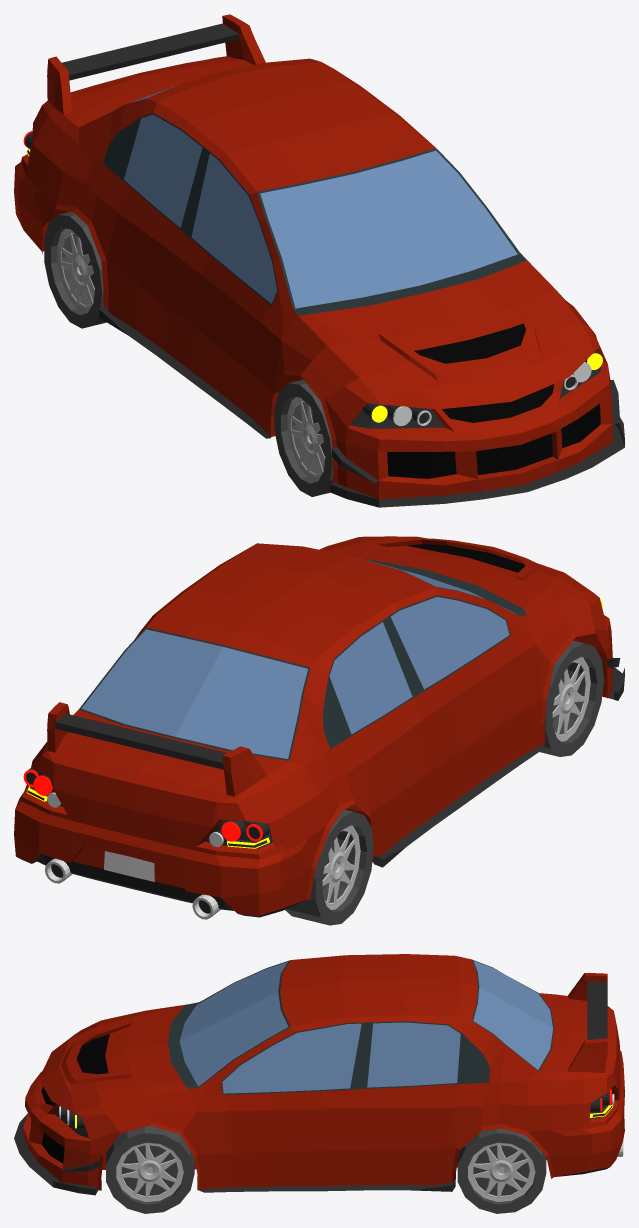
The model's file is mitsubishi.fbx.
3 renders of one model, top to bottom at view 1: azimuth 30°, elevation 25°; view 2: azimuth 150°, elevation 25°; view 3: azimuth 270°, elevation 25°, orthographic. The views are drawn at different scales.
Visible parts, largest first — view 1: car_mitsubishi, wheel_br_mitsubishi, wheel_fr_mitsubishi; view 2: car_mitsubishi, wheel_br_mitsubishi, wheel_fr_mitsubishi; view 3: car_mitsubishi, wheel_fl_mitsubishi, wheel_bl_mitsubishi.
Part boxes in pixels (left/top/right/bottom): car_mitsubishi: left=14, top=14, right=624, bottom=507; wheel_br_mitsubishi: left=44, top=212, right=106, bottom=328; wheel_fr_mitsubishi: left=274, top=379, right=333, bottom=496; car_mitsubishi: left=14, top=536, right=624, bottom=919; wheel_br_mitsubishi: left=285, top=809, right=373, bottom=925; wheel_fr_mitsubishi: left=540, top=640, right=603, bottom=756; car_mitsubishi: left=14, top=954, right=624, bottom=1195; wheel_fl_mitsubishi: left=106, top=1125, right=194, bottom=1213; wheel_bl_mitsubishi: left=457, top=1128, right=546, bottom=1213.
Bounding box in the file's own units: 204 × 162 × 490.
